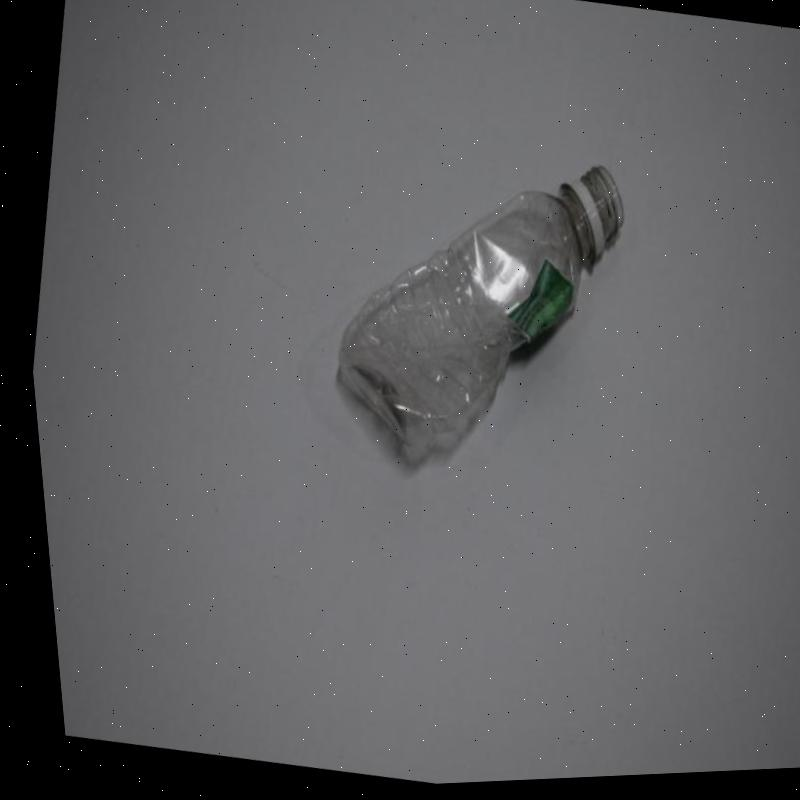botella: (296, 125, 654, 510)
